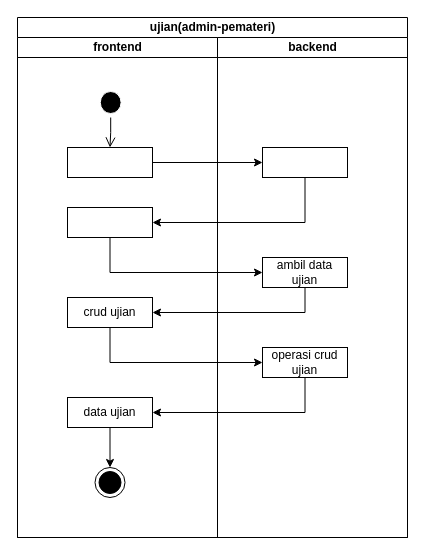
Some shapes in this 425 by 555 pixel diagram are drawn without their labels. Here are the shapes that lost their labels. From the top down, the centre of each, then its label:
At pixel 109 162: "ujian button".
At pixel 305 162: "ambil data mapel".
At pixel 109 222: "data mapel".
